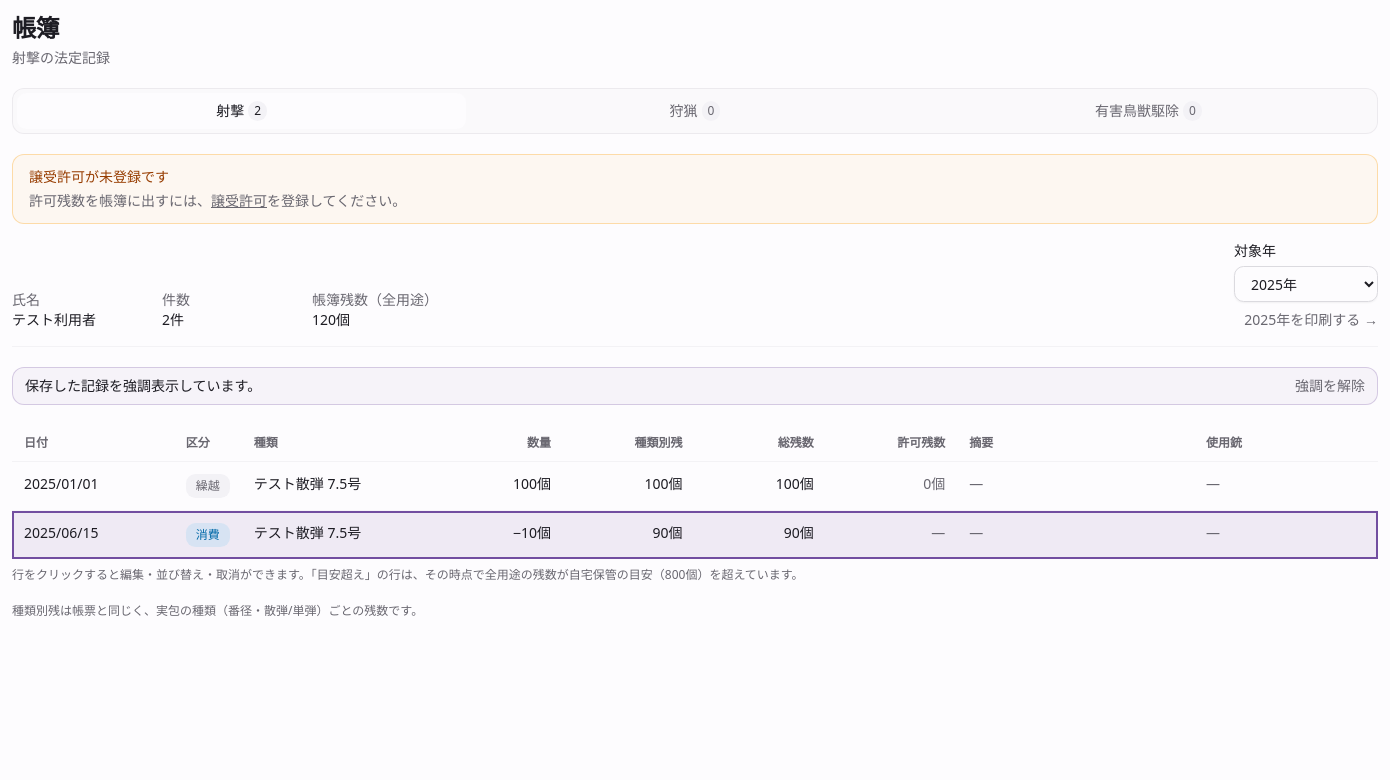
LedgerView › 用途を切り替えると強調表示を外し、表示中の年は保つ
This screenshot has width=1390, height=780.
Expected: the text "保存した記録を強調表示しています。" is shown, [25,376,261,396]
Click the button with aria-label "狩猟用 0件": click(695, 111) [470,93,920,129]
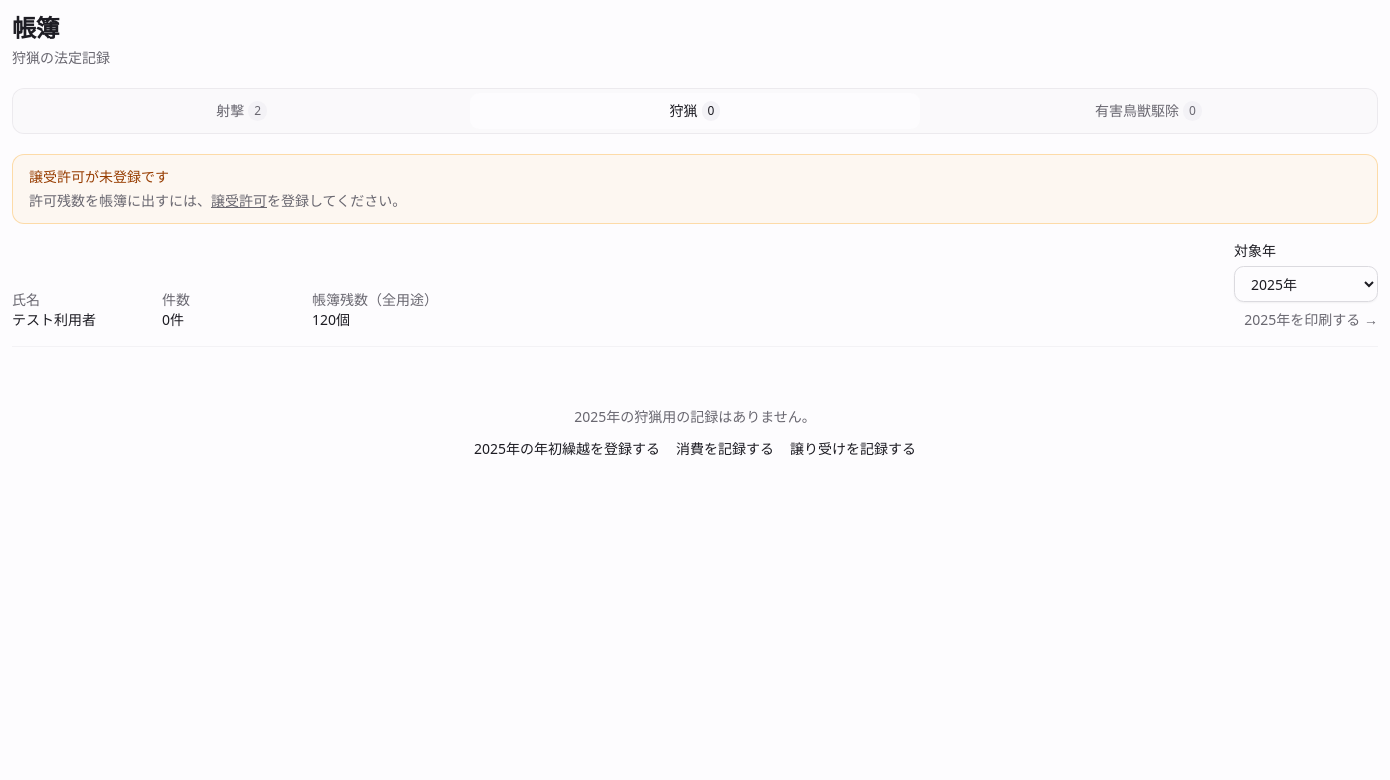
Expected: the text "強調表示" is gone
